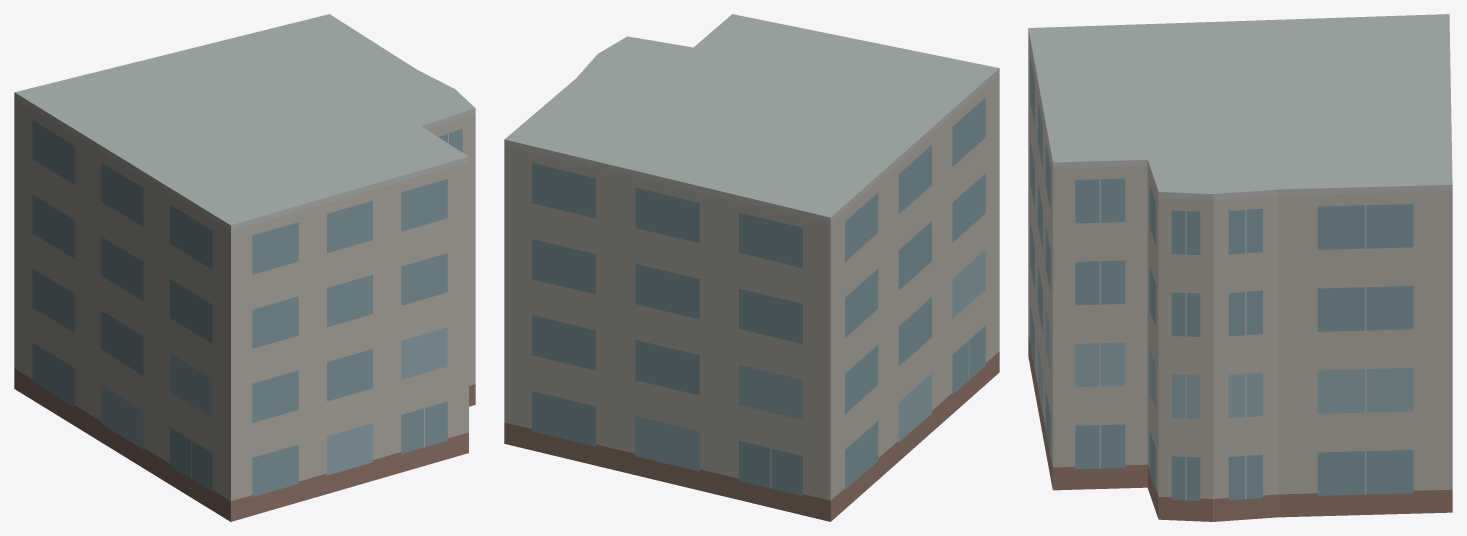
Rendered from survey-upis-32950298.glb.
The picture shows the model from 3 angles, left to right: view 1: azimuth 30°, elevation 25°; view 2: azimuth 150°, elevation 25°; view 3: azimuth 270°, elevation 25°; orthographic projection. The views are drawn at different scales.
Visible parts, largest first — view 1: survey-upis-32950298.tmp; view 2: survey-upis-32950298.tmp; view 3: survey-upis-32950298.tmp.
Boxes of the visible parts, x1=… form: survey-upis-32950298.tmp: x1=14, y1=14, x2=475, y2=521; survey-upis-32950298.tmp: x1=504, y1=14, x2=999, y2=521; survey-upis-32950298.tmp: x1=1028, y1=14, x2=1452, y2=521.
Bounding box in the file's own units: 15.32 × 13 × 15.26.
